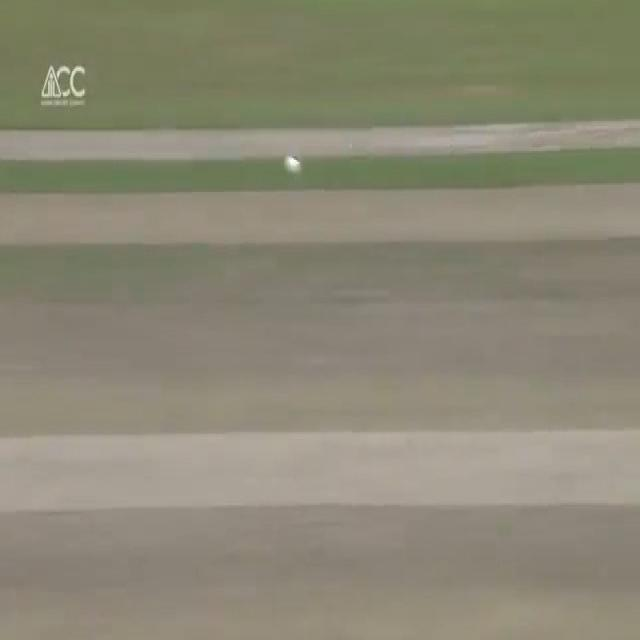Cricket ball: (284, 152, 304, 182)
